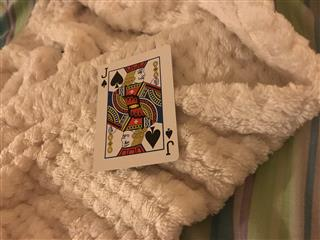JackOfSpades: (92, 43, 180, 172)
